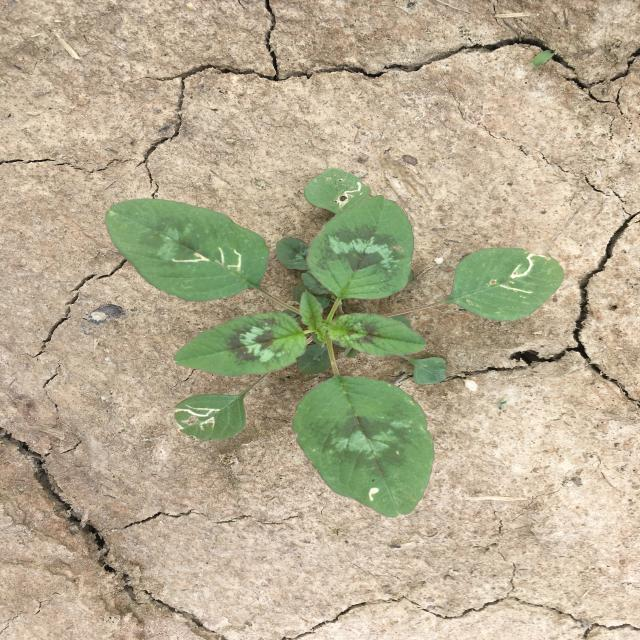PalmerAmaranth: (105, 167, 564, 517)
